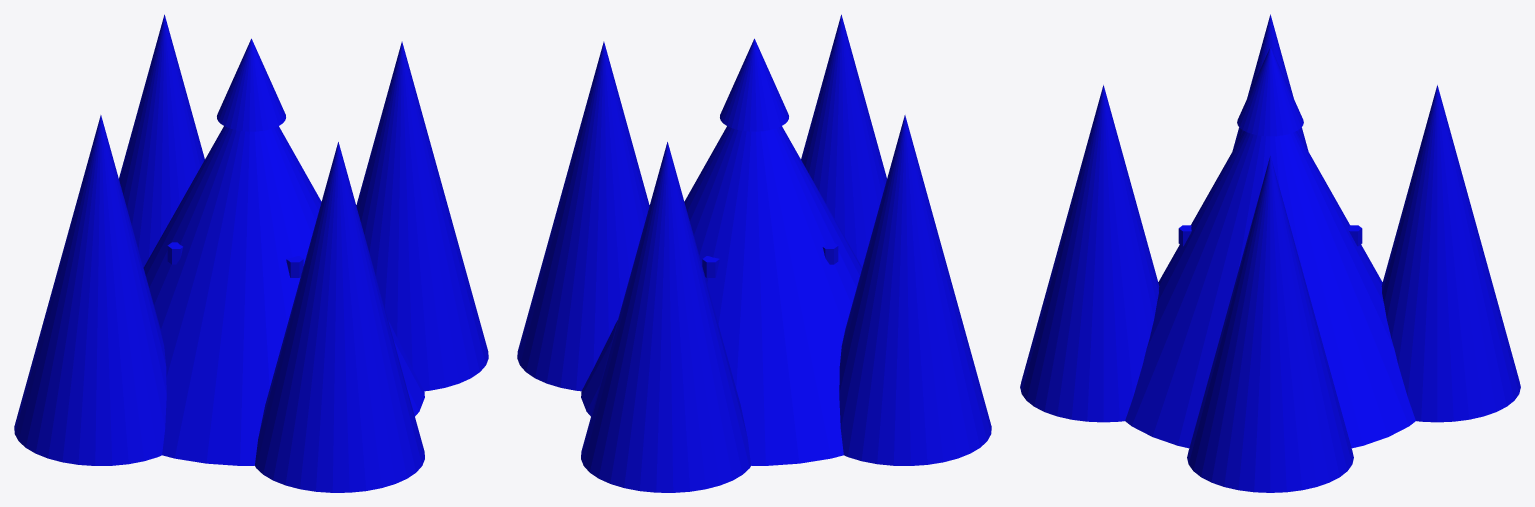
File: 20260311_192730_blue_diamond_blue.glb
3 renders of one model, left to right at view 1: azimuth 30°, elevation 25°; view 2: azimuth 150°, elevation 25°; view 3: azimuth 270°, elevation 25°, orthographic. The views are drawn at different scales.
Parts seen in each view (by area): view 1: Cone, Cone.004, Cone.002, Cone.001, Cone.003, Cone.005; view 2: Cone, Cone.003, Cone.002, Cone.001, Cone.004, Cone.005; view 3: Cone, Cone.001, Cone.003, Cone.004, Cone.005, Cone.002.
Part boxes in pixels (bbox=[...]): Cone: bbox=[143, 126, 424, 465]; Cone.004: bbox=[255, 142, 424, 492]; Cone.002: bbox=[14, 115, 166, 465]; Cone.001: bbox=[356, 41, 488, 391]; Cone.003: bbox=[119, 14, 204, 267]; Cone.005: bbox=[217, 38, 285, 131]; Cone: bbox=[581, 126, 862, 465]; Cone.003: bbox=[581, 142, 750, 492]; Cone.002: bbox=[839, 115, 991, 465]; Cone.001: bbox=[517, 41, 649, 391]; Cone.004: bbox=[801, 14, 886, 267]; Cone.005: bbox=[720, 38, 788, 131]; Cone: bbox=[1125, 131, 1415, 448]; Cone.001: bbox=[1187, 155, 1353, 492]; Cone.003: bbox=[1381, 85, 1520, 422]; Cone.004: bbox=[1020, 85, 1159, 422]; Cone.005: bbox=[1237, 47, 1303, 136]; Cone.002: bbox=[1232, 14, 1308, 150].
Bounding box in the file's own units: 3 × 2.5 × 3.
